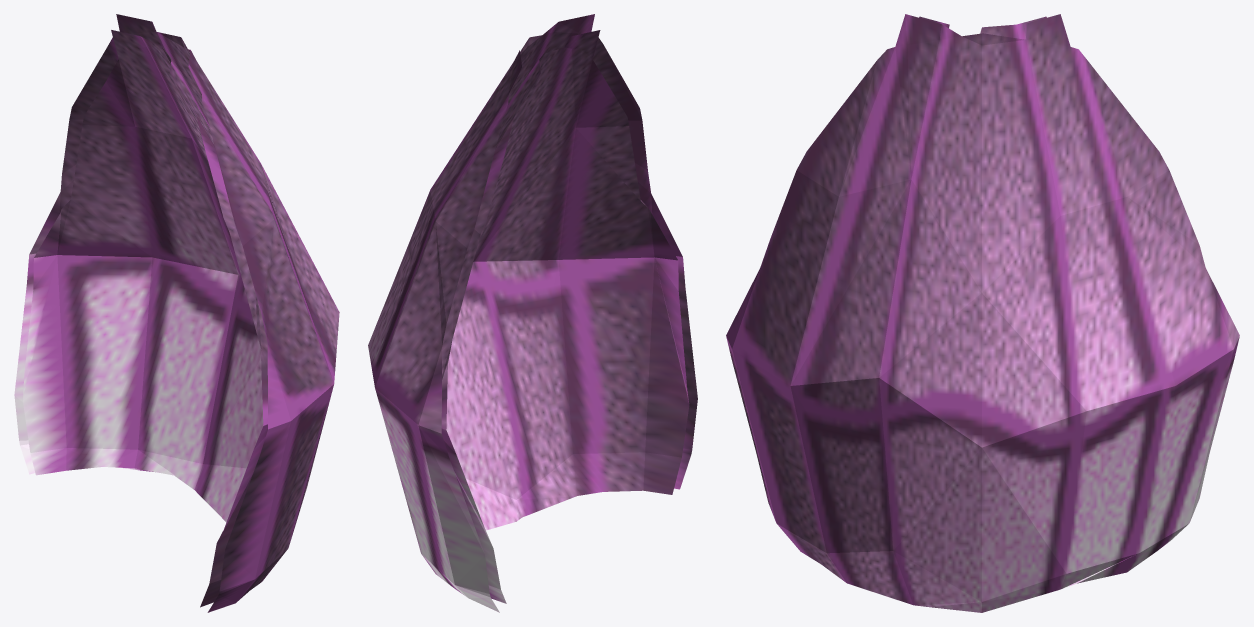
File: BVase2.glb
The picture shows the model from 3 angles, left to right: view 1: azimuth 30°, elevation 25°; view 2: azimuth 150°, elevation 25°; view 3: azimuth 270°, elevation 25°; orthographic projection. The views are drawn at different scales.
Parts seen in each view (by area): view 1: BVase2; view 2: BVase2; view 3: BVase2.
Part boxes in pixels (<box>): BVase2: <box>14,14,339,612</box>; BVase2: <box>368,14,697,612</box>; BVase2: <box>726,14,1239,612</box>.
Bounding box in the file's own units: 59.88 × 156 × 131.
Materials: 1 (1 with a texture image).
